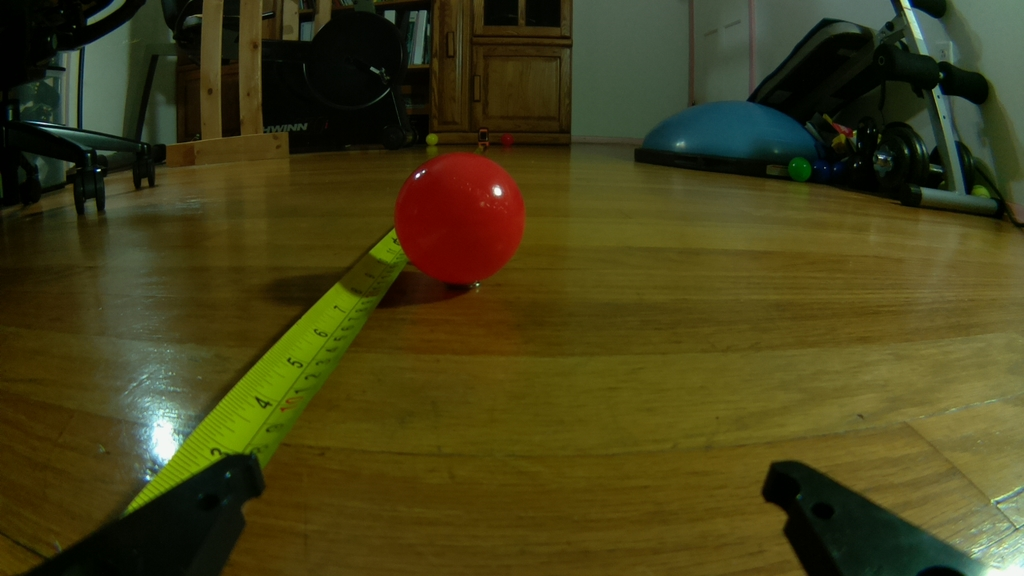ball: (395, 152, 526, 286)
